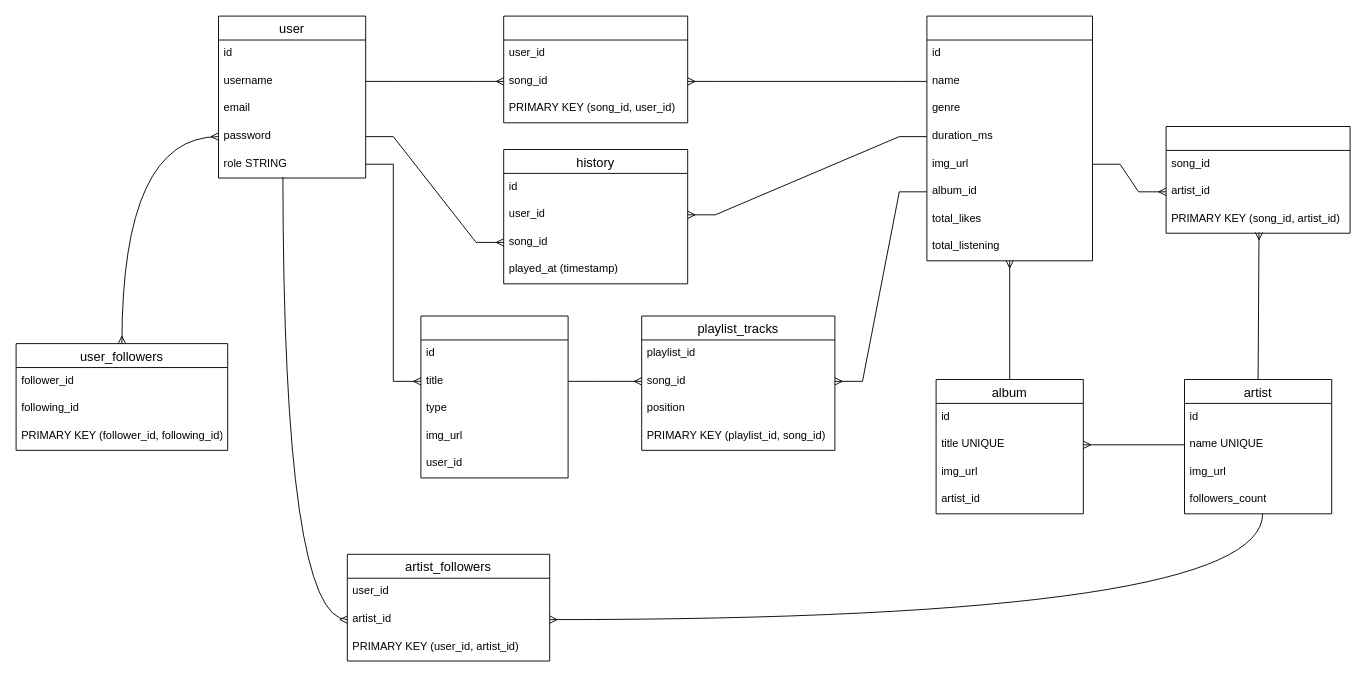
This 1366x680 diagram has some shape labels left out. The box of each missing label's shape, as (x1, y1, x2, y2) in pixels:
likes: (503, 15, 688, 123)
playlist: (420, 315, 568, 478)
song: (926, 15, 1092, 261)
song_artists: (1165, 126, 1350, 233)
